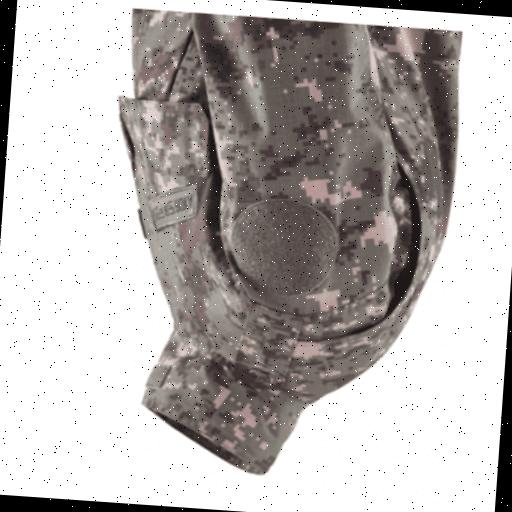korea army: (93, 6, 467, 487)
